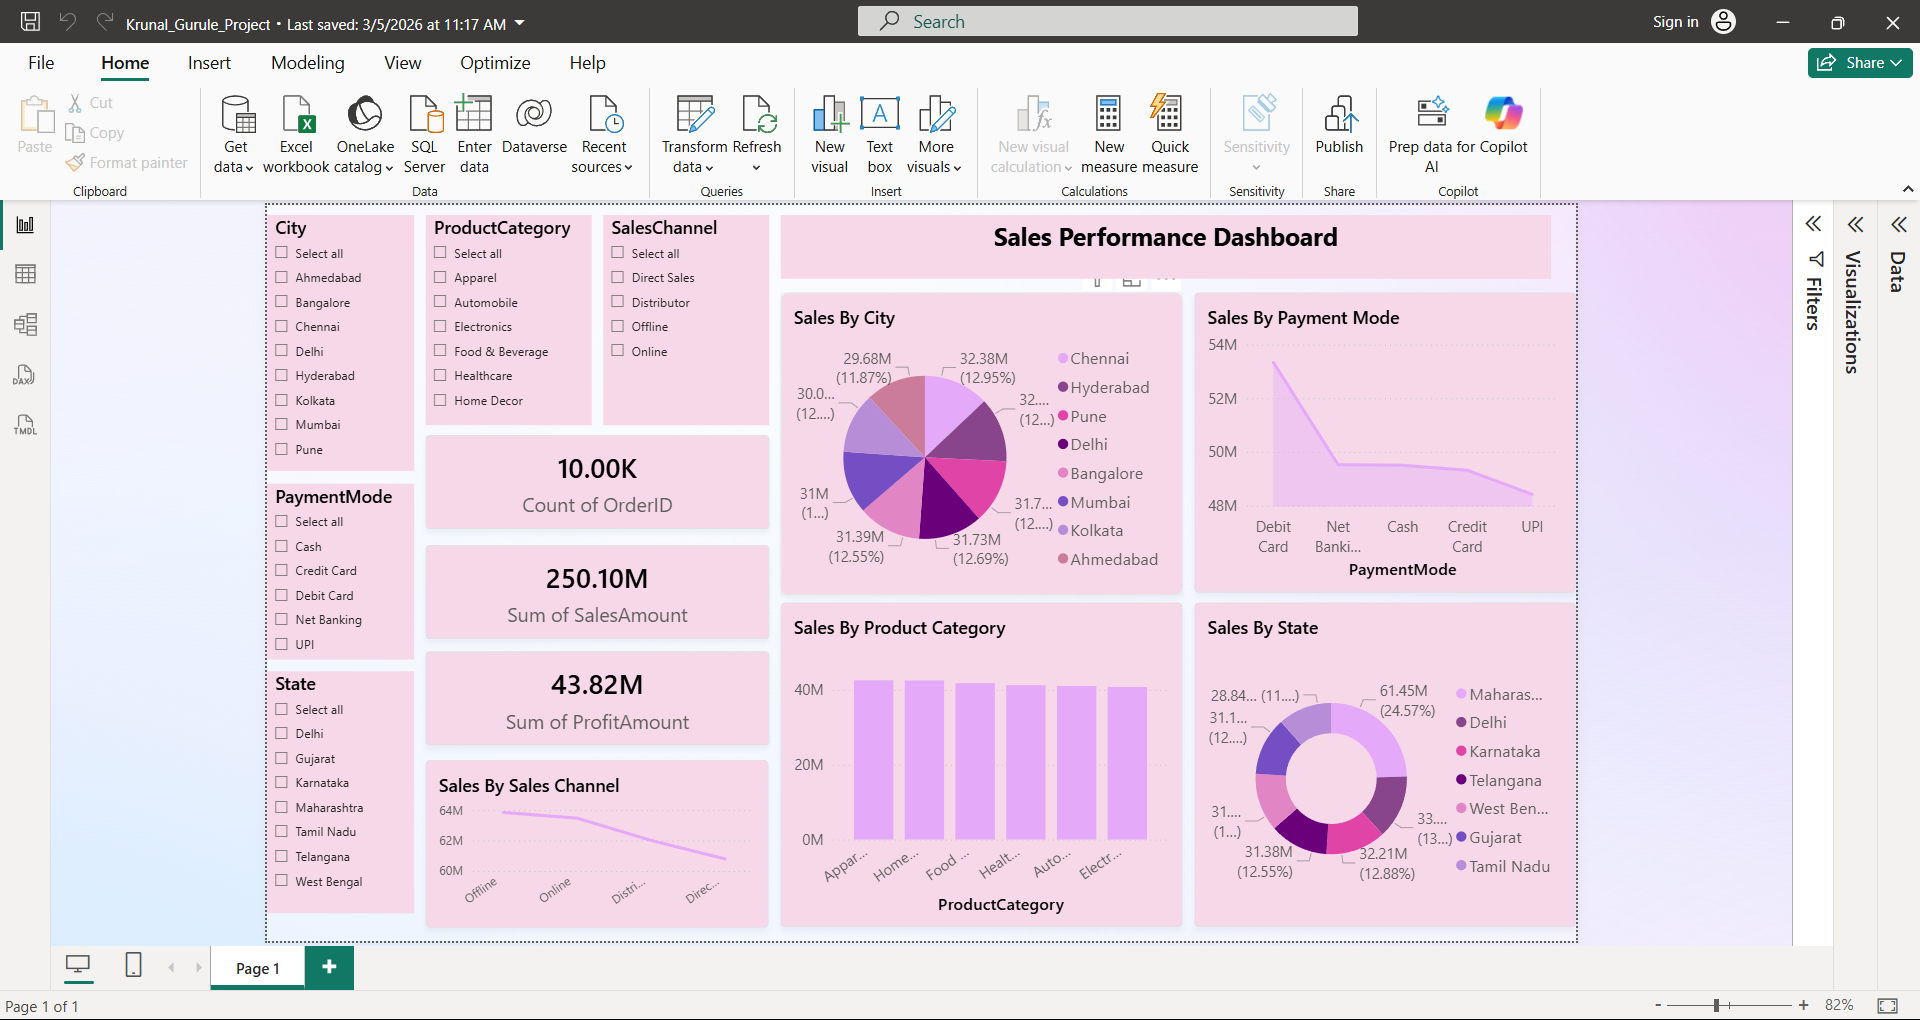

This screenshot's page, from the dashboard's own definition file:
{"tool":"powerbi","page":{"name":"Page 1","canvas":[1280,720],"ordinal":0},"visuals":[{"type":"pieChart","title":" Sales By City ","fields":{"Category":["BA Batch Power BI Project.City"],"Y":["Sum(BA Batch Power BI Project.SalesAmount)"]},"box":[502.6,85.6,392.5,295.9],"z":0},{"type":"card","fields":{"Values":["Sum(BA Batch Power BI Project.SalesAmount)"]},"box":[155.3,332.6,336.3,91.7],"z":1000},{"type":"card","fields":{"Values":["Sum(BA Batch Power BI Project.ProfitAmount)"]},"box":[155.3,436.6,336.3,91.7],"z":2000},{"type":"clusteredColumnChart","title":"Sales By Product Category","fields":{"Category":["BA Batch Power BI Project.ProductCategory"],"Y":["Sum(BA Batch Power BI Project.SalesAmount)"]},"box":[502.6,388.9,392.5,317.9],"z":3000},{"type":"areaChart","title":"Sales By Payment Mode","fields":{"Category":["BA Batch Power BI Project.PaymentMode"],"Y":["Sum(BA Batch Power BI Project.SalesAmount)"]},"box":[907.3,85.6,373,293.5],"z":4000},{"type":"lineChart","title":"Sales By Sales Channel","fields":{"Category":["BA Batch Power BI Project.SalesChannel"],"Y":["Sum(BA Batch Power BI Project.SalesAmount)"]},"box":[155.3,542.9,335.1,163.9],"z":5000},{"type":"donutChart","title":"Sales By State","fields":{"Category":["BA Batch Power BI Project.State"],"Y":["Sum(BA Batch Power BI Project.SalesAmount)"]},"box":[907.3,388.9,373,317.9],"z":6000},{"type":"card","fields":{"Values":["CountNonNull(BA Batch Power BI Project.OrderID)"]},"box":[155.3,225,336.3,91.7],"z":7000},{"type":"slicer","fields":{"Values":["BA Batch Power BI Project.State"]},"box":[0,456.1,143.9,236.6],"z":8000},{"type":"slicer","fields":{"Values":["BA Batch Power BI Project.ProductCategory"]},"box":[155.3,9.8,162.6,205.4],"z":9000},{"type":"slicer","fields":{"Values":["BA Batch Power BI Project.SalesChannel"]},"box":[328.9,9.8,162.6,205.4],"z":10000},{"type":"slicer","fields":{"Values":["BA Batch Power BI Project.City"]},"box":[0,9.8,143.9,250],"z":11000},{"type":"slicer","fields":{"Values":["BA Batch Power BI Project.PaymentMode"]},"box":[0,273.2,143.9,172],"z":12000},{"type":"textbox","box":[502.6,9.8,753.3,62.4],"z":13000}]}

Visuals, with their boxes on the page's 1280x720 design canvas (x1, y1, x2, y2). These are canvas units, not pixel positions in the 1920x1020 screenshot, which may show the page scaled, cropped or inside an application window:
" Sales By City " pieChart: <region>503, 86, 895, 382</region>
card - Sum(BA Batch Power BI Project.SalesAmount): <region>155, 333, 492, 424</region>
card - Sum(BA Batch Power BI Project.ProfitAmount): <region>155, 437, 492, 528</region>
"Sales By Product Category" clusteredColumnChart: <region>503, 389, 895, 707</region>
"Sales By Payment Mode" areaChart: <region>907, 86, 1280, 379</region>
"Sales By Sales Channel" lineChart: <region>155, 543, 490, 707</region>
"Sales By State" donutChart: <region>907, 389, 1280, 707</region>
card - CountNonNull(BA Batch Power BI Project.OrderID): <region>155, 225, 492, 317</region>
slicer - BA Batch Power BI Project.State: <region>0, 456, 144, 693</region>
slicer - BA Batch Power BI Project.ProductCategory: <region>155, 10, 318, 215</region>
slicer - BA Batch Power BI Project.SalesChannel: <region>329, 10, 492, 215</region>
slicer - BA Batch Power BI Project.City: <region>0, 10, 144, 260</region>
slicer - BA Batch Power BI Project.PaymentMode: <region>0, 273, 144, 445</region>
textbox: <region>503, 10, 1256, 72</region>
